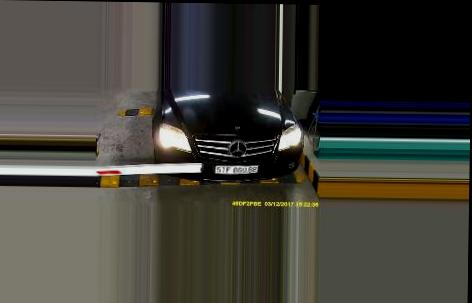License_Plate: (207, 160, 262, 177)
